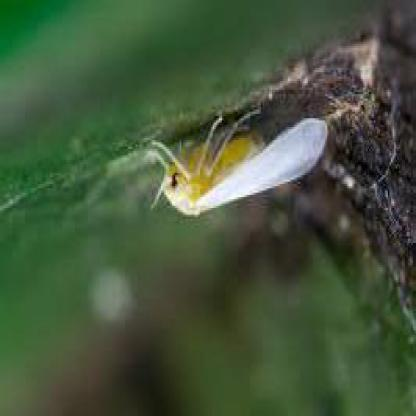whitefly: (159, 115, 329, 216)
